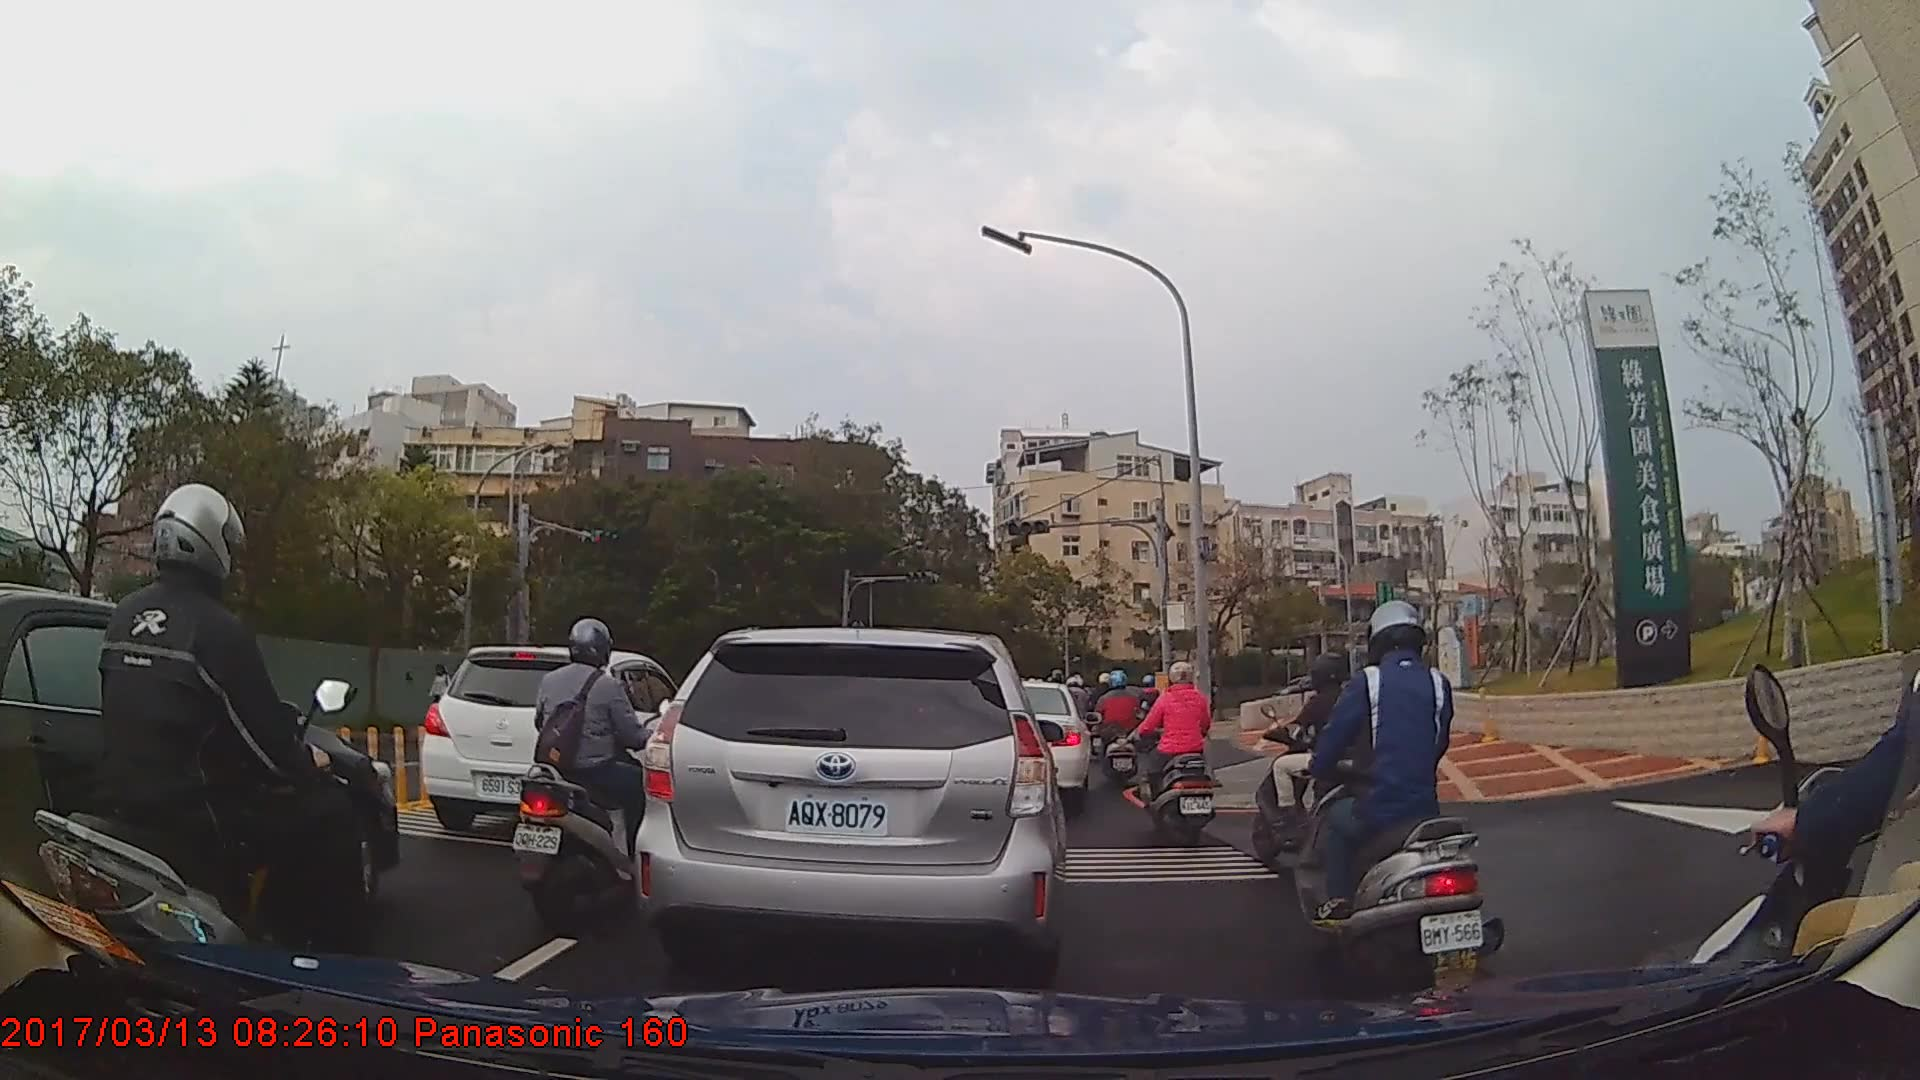pedestrian: (434, 664, 455, 726)
rider: (28, 480, 374, 1037), (1292, 600, 1507, 1017), (513, 620, 664, 926), (1249, 653, 1420, 869), (1143, 663, 1214, 854), (1091, 667, 1145, 787)
vehicle: (631, 625, 1067, 985), (0, 579, 398, 942), (417, 644, 694, 835), (984, 681, 1091, 804)
